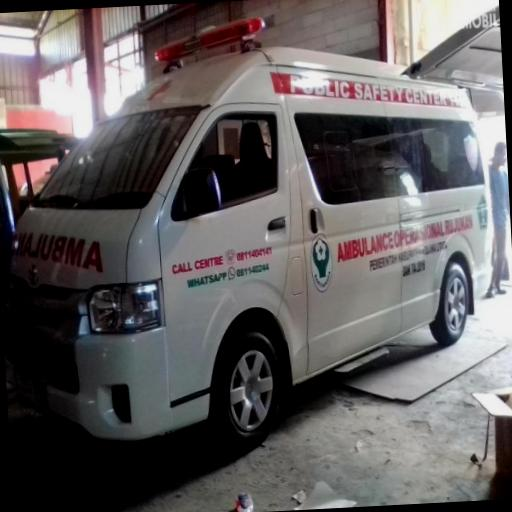Police car: (0, 0, 508, 477)
